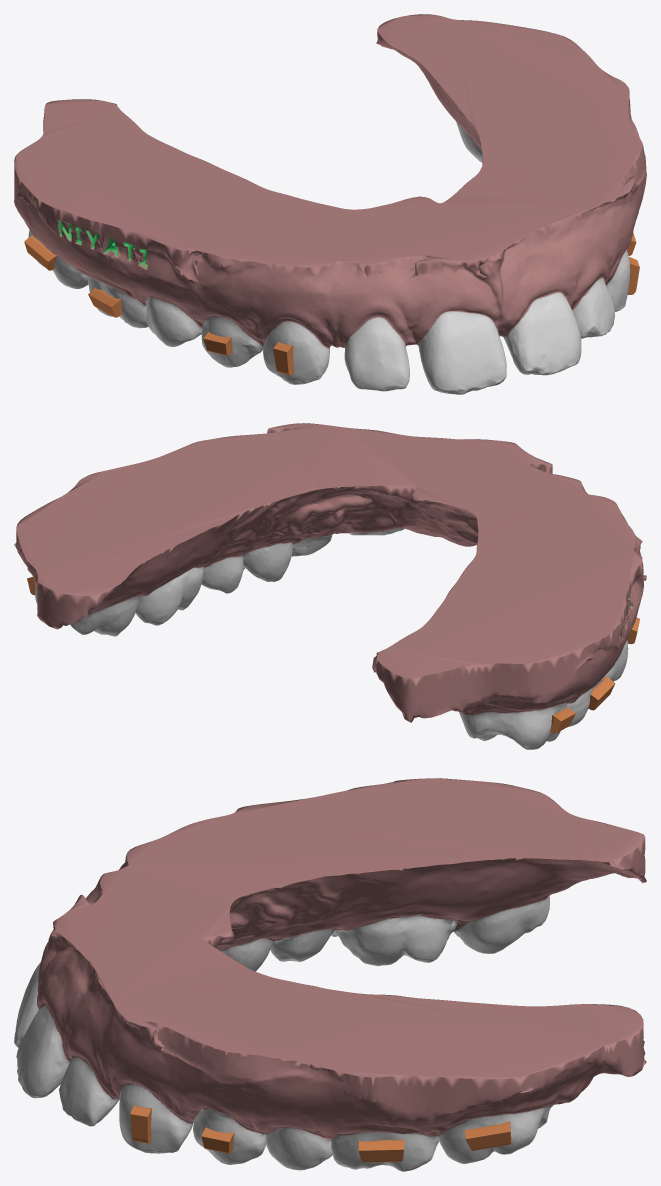
File: Niya Priority Upper jaw - 01 - Template.glb
3 views of the same model, one above another, from view 1: azimuth 30°, elevation 25°; view 2: azimuth 150°, elevation 25°; view 3: azimuth 270°, elevation 25° (orthographic). The views are drawn at different scales.
Visible parts, largest first — view 1: Niya Priority Upper jaw - 01 - Template; view 2: Niya Priority Upper jaw - 01 - Template; view 3: Niya Priority Upper jaw - 01 - Template.
Part boxes in pixels (x1,y1,x2,y2): Niya Priority Upper jaw - 01 - Template: (14,14,646,394); Niya Priority Upper jaw - 01 - Template: (14,423,646,749); Niya Priority Upper jaw - 01 - Template: (14,778,646,1171).
Bounding box in the file's own units: 66.36 × 13.69 × 58.9.
